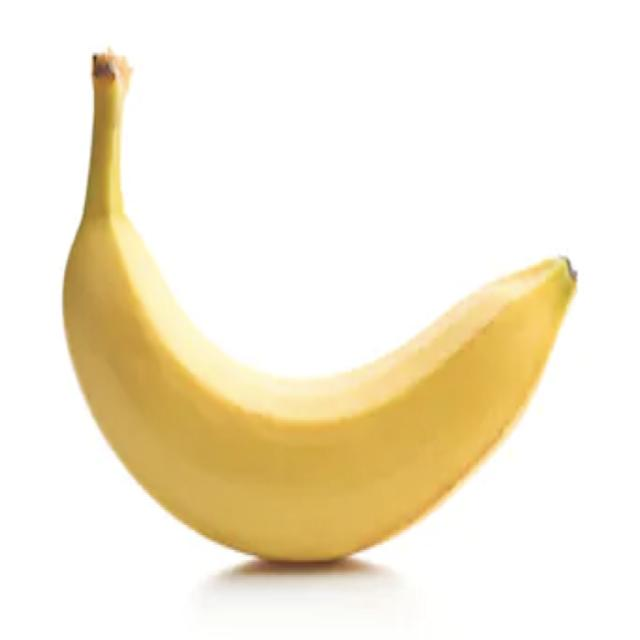fresh-banana: (61, 45, 578, 565)
